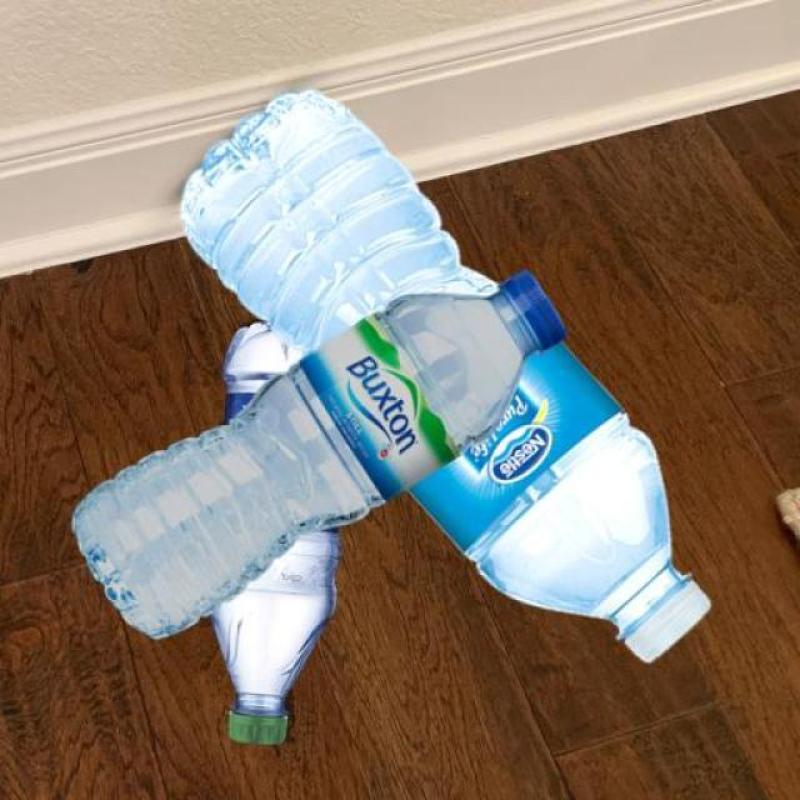botella: (172, 88, 713, 667), (72, 270, 566, 640), (215, 320, 344, 745)
